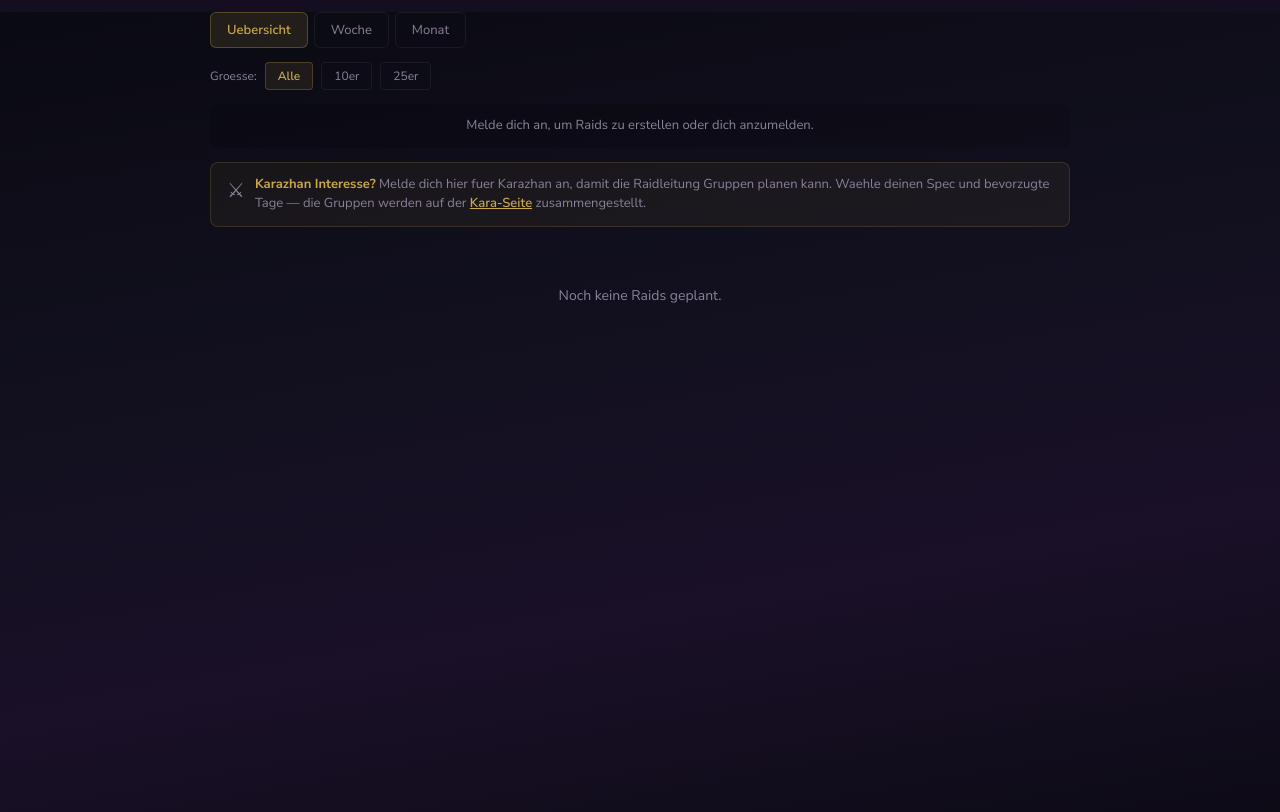
it: RaidsView › shows weekly calendar when toggled
The image size is (1280, 812).
Click the button with class "rt-btn" showing "Woche". click: coordinates (351, 30)
box: [314,12,389,48]
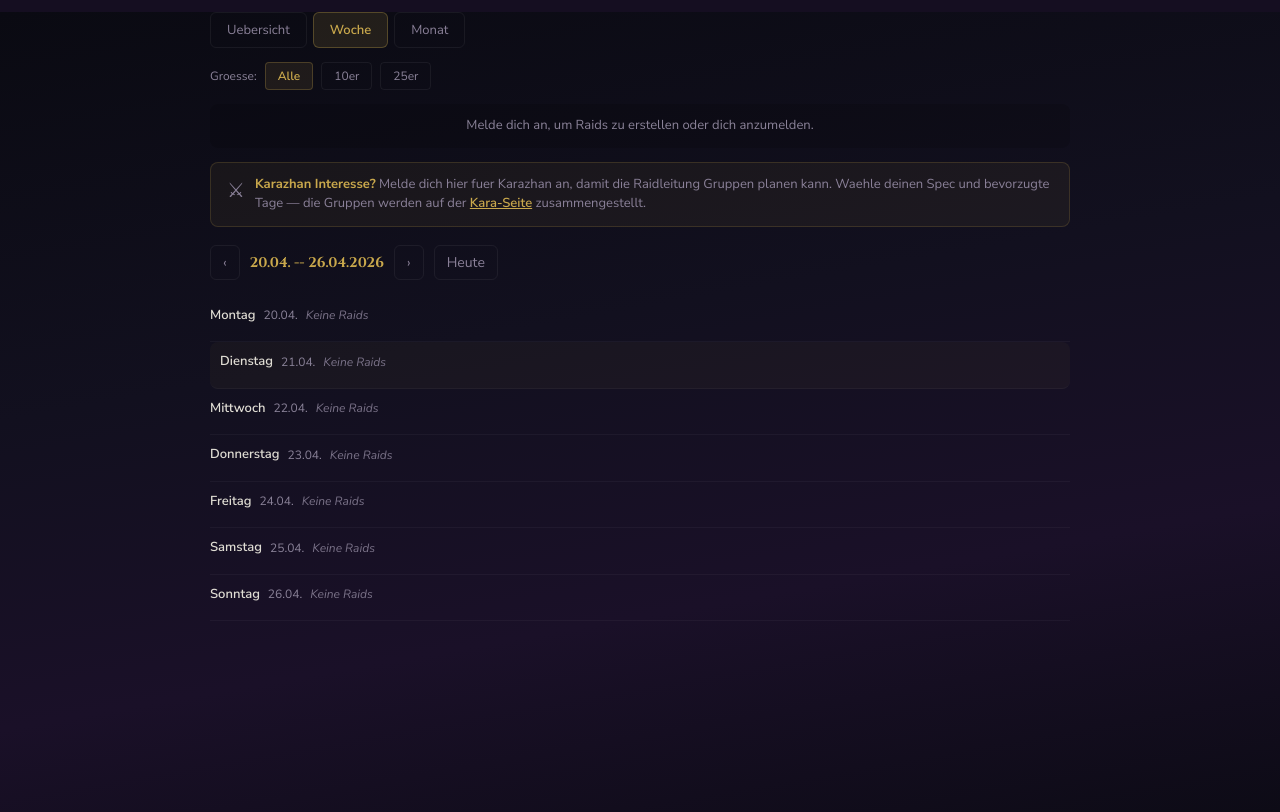
Expected: the text "Heute" is shown, [434,244,498,280]
Expected: the element with class "cal-nav" is shown, [210,244,498,280]
